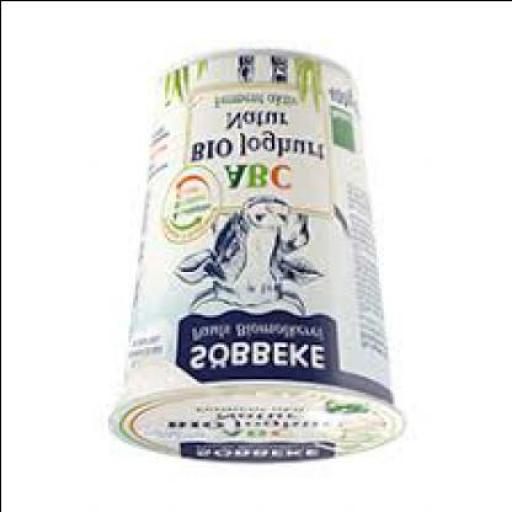plastic: (104, 50, 402, 464)
